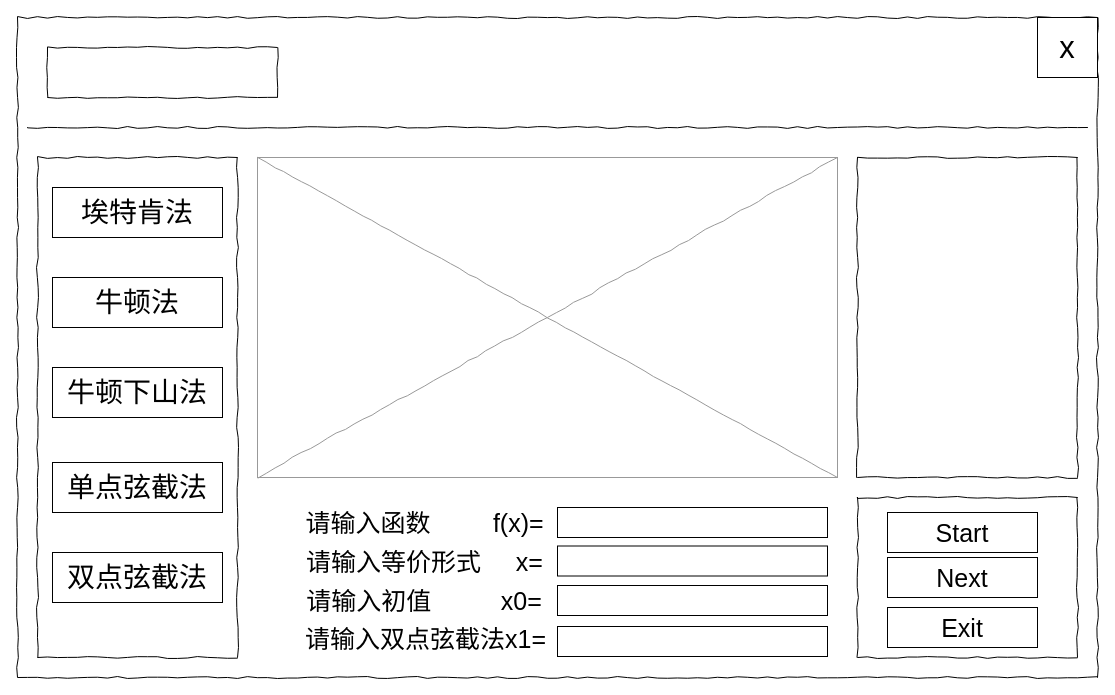
Some shapes in this 1115 by 695 pixel diagram are drawn without their labels. The shapes that lost their labels are listed below. From the top down, each one's centre as x and y in pixels, then its label:
At point 162,72: "迭代法解方程".
At point 967,317: "x0=…… 第一步下山因子： x1=…… 第二步下山因子： x2=…… 第三步下山因子： x3=…… 迭代结束！第3步解得根为__ /超出迭代次数，迭代失败！".
